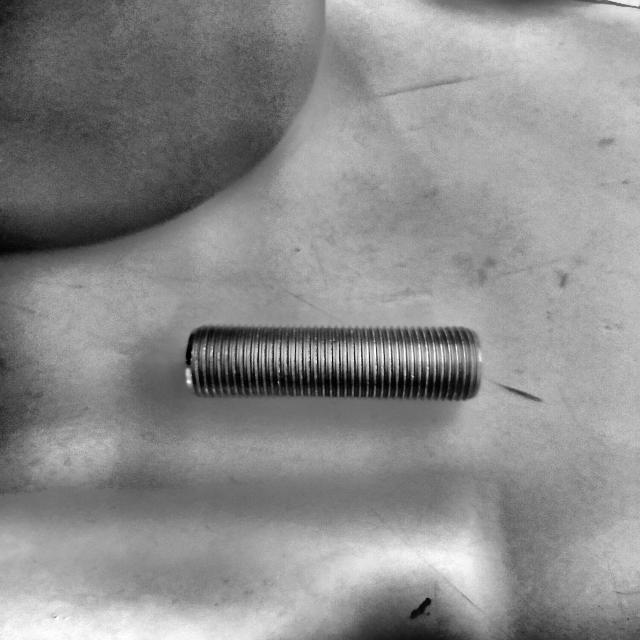Normal: (186, 322, 481, 403)
